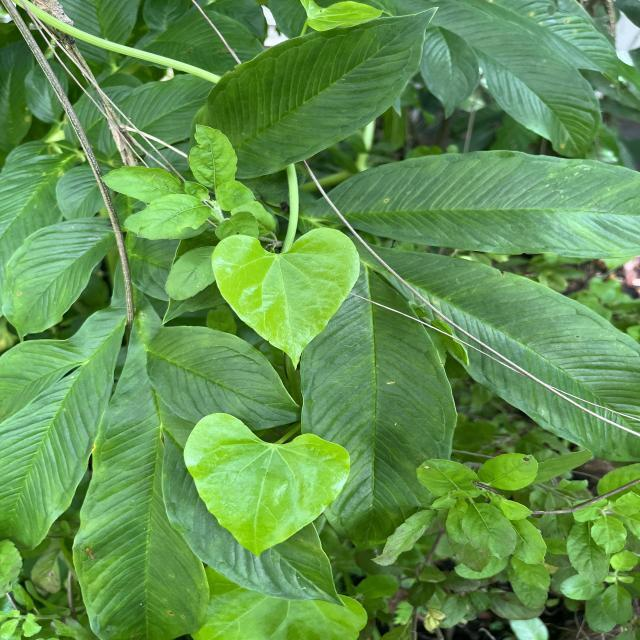Tinospora cordifolia: (181, 409, 354, 561), (209, 224, 364, 374)
